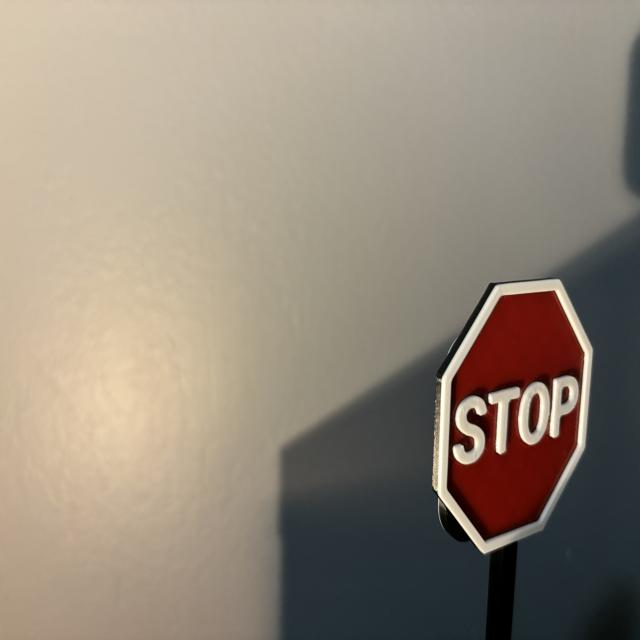sign_stop: (439, 281, 594, 555)
